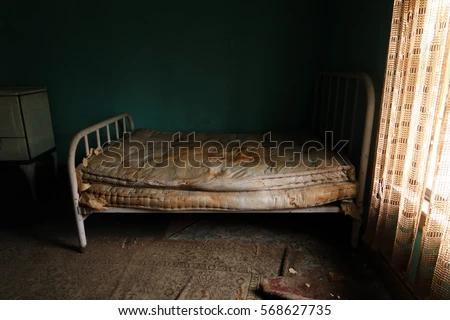Bed-Mattress: (77, 129, 359, 211)
